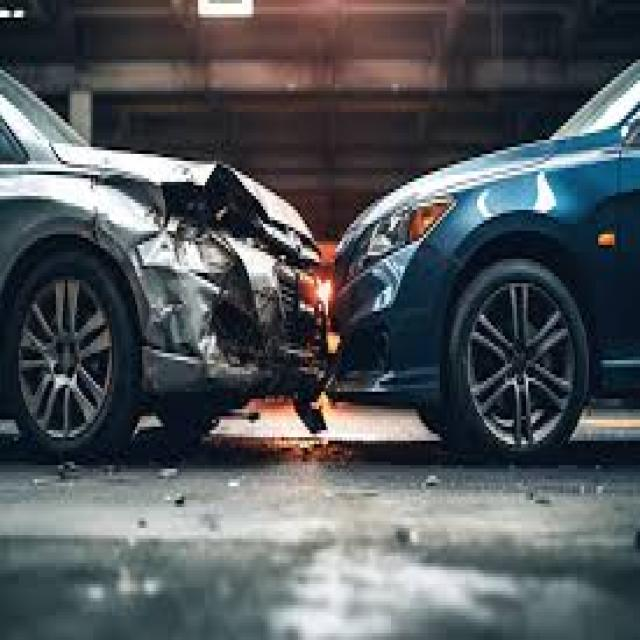Accident: (0, 59, 640, 478)
